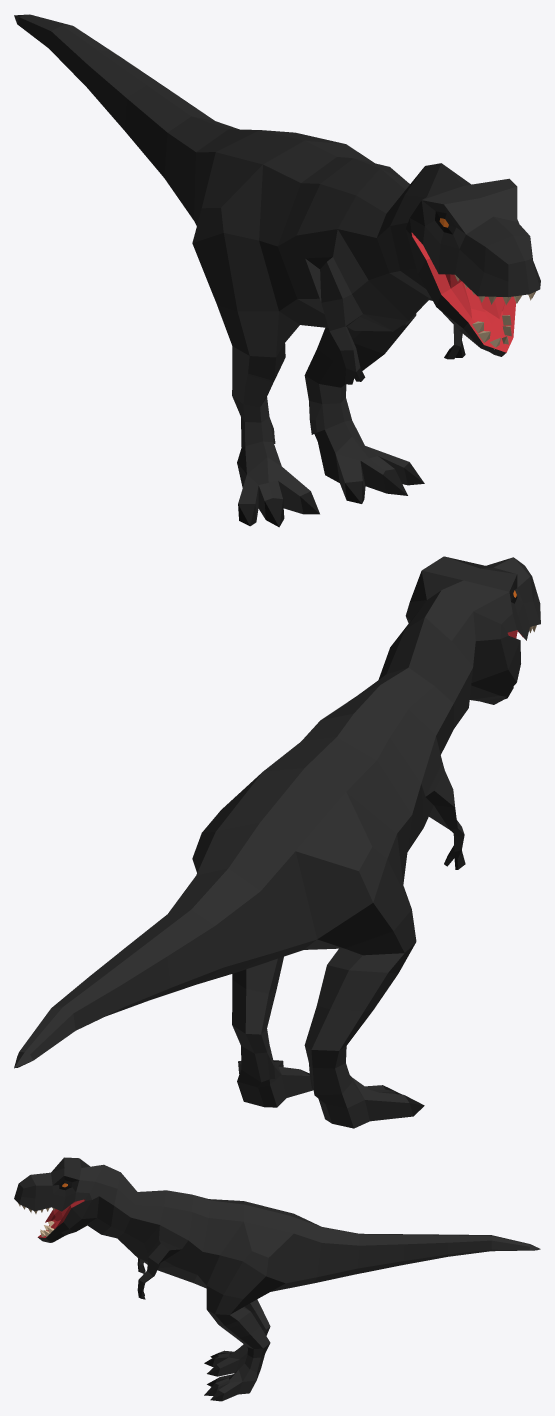
The model's file is animals_t-rex.fbx.
3 views of the same model, one above another, from view 1: azimuth 30°, elevation 25°; view 2: azimuth 150°, elevation 25°; view 3: azimuth 270°, elevation 25° (orthographic). The views are drawn at different scales.
Visible parts, largest first — view 1: animals_t_rex; view 2: animals_t_rex; view 3: animals_t_rex.
Part boxes in pixels (x1,y1,x2,y2): animals_t_rex: (14,14,540,527); animals_t_rex: (14,556,540,1128); animals_t_rex: (14,1157,540,1401).
Bounding box in the file's own units: 40.52 × 90.44 × 200.
